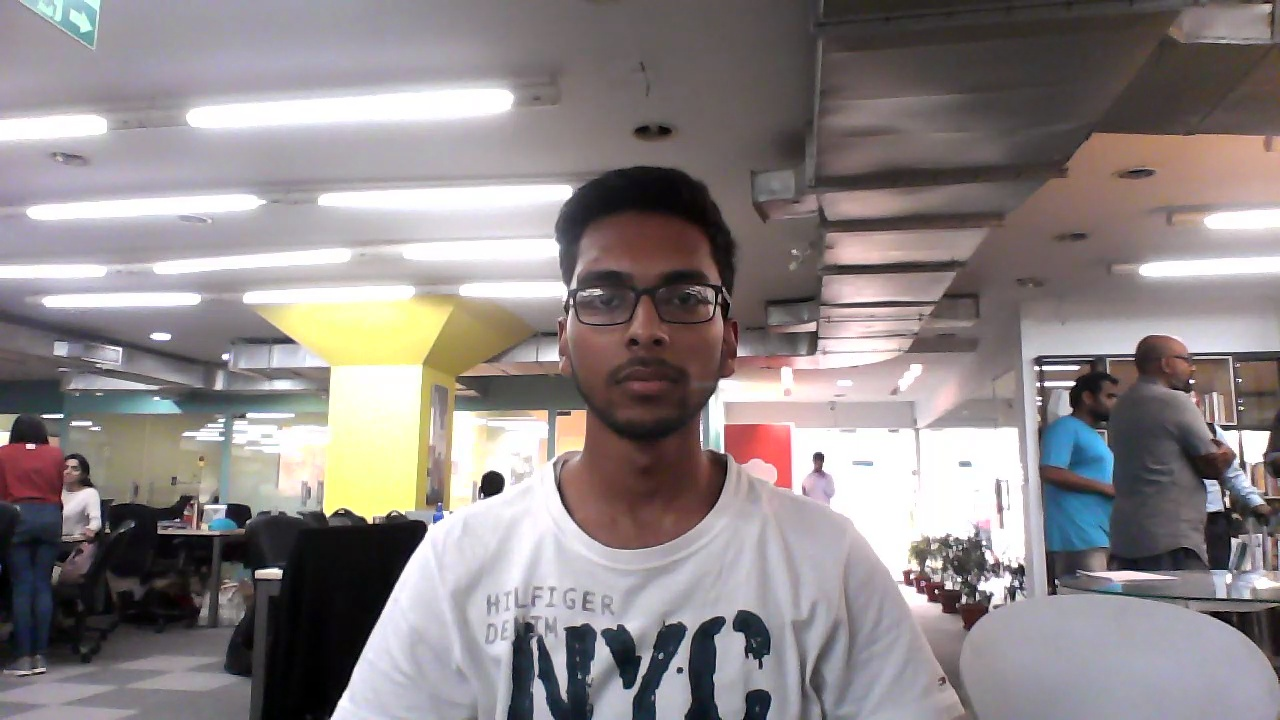open: (551, 155, 745, 458)
